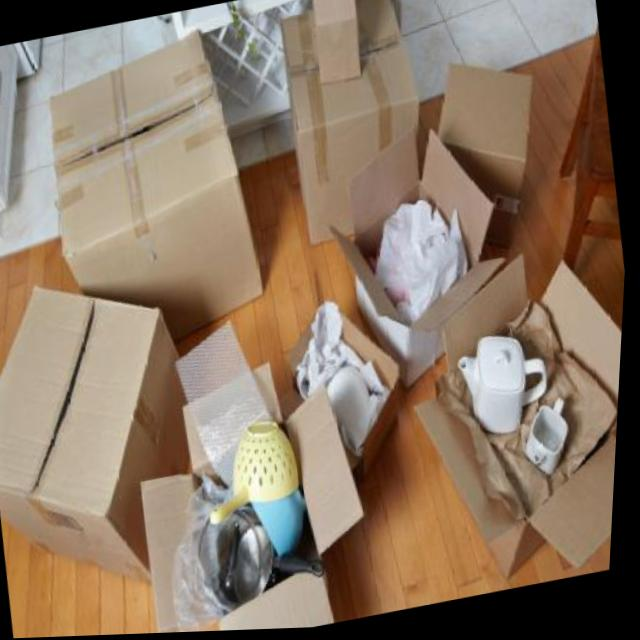box: (17, 13, 311, 357), (405, 229, 630, 605), (116, 342, 400, 636), (0, 253, 208, 620), (308, 104, 527, 400), (264, 0, 453, 255), (427, 38, 559, 223)
